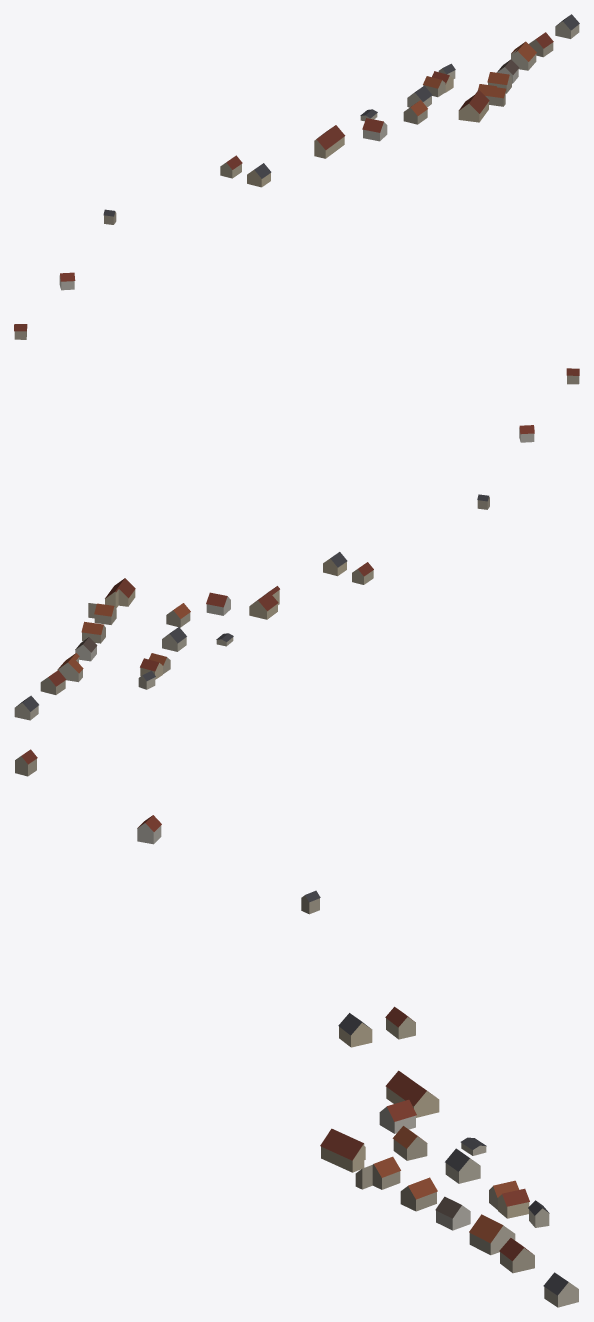
The picture shows the model from 3 angles, top to bottom: view 1: azimuth 30°, elevation 25°; view 2: azimuth 210°, elevation 25°; view 3: azimuth 270°, elevation 25°; orthographic projection. The views are drawn at different scales.
Parts seen in each view (by area): view 1: buildings; view 2: buildings; view 3: buildings.
Boxes of the visible parts, x1,y1,x2,y2 form: buildings: (14, 14, 579, 339); buildings: (14, 368, 579, 720); buildings: (15, 749, 578, 1307).
Size of the model in its own units: 526 by 28.01 by 242.
